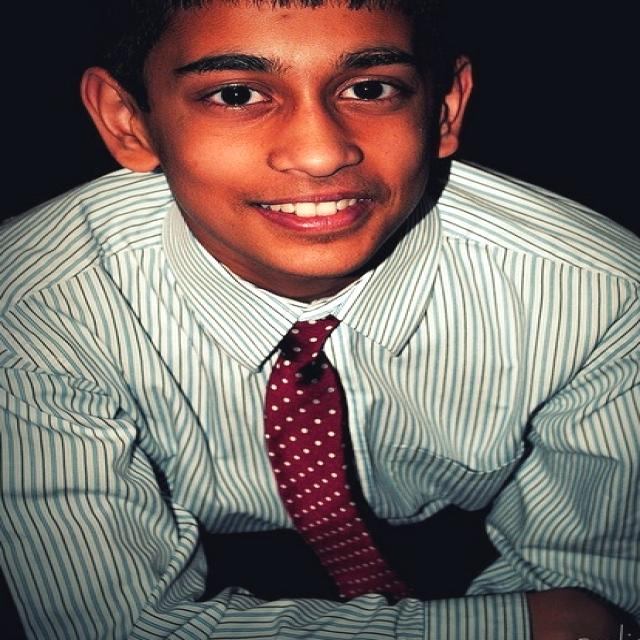piel: (78, 6, 473, 302)
